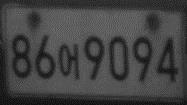0: (108, 35, 129, 81)
4: (155, 36, 180, 86)
6: (34, 34, 56, 79)
8: (11, 33, 31, 79)
9: (131, 35, 154, 83), (83, 34, 105, 81)
어: (56, 42, 81, 80)
